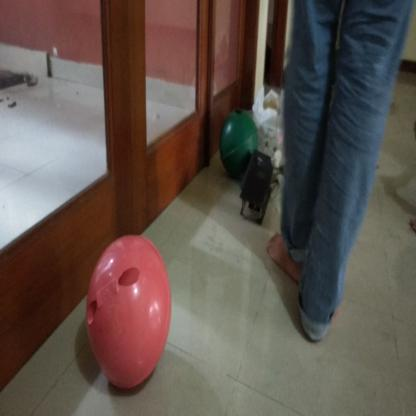green_buoy: (218, 109, 261, 180)
red_buoy: (84, 232, 172, 390)
